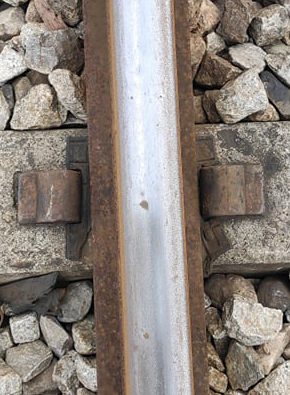error1: (18, 142, 91, 248), (198, 150, 269, 223)
